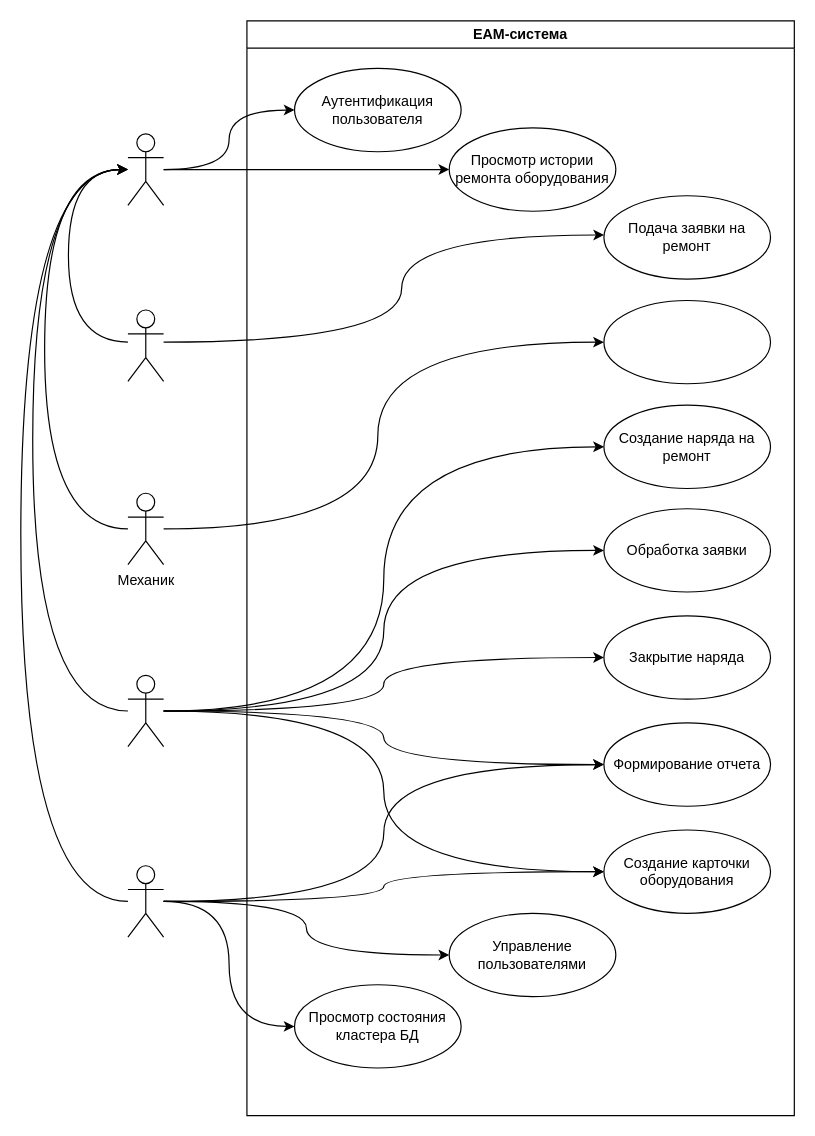
Some shapes in this 815 by 1136 pixel diagram are drawn without their labels. Here are the shapes that lost their labels. From the top down, the box of each, then its label:
(127, 133, 164, 205): Пользователь
(127, 309, 164, 381): Заявитель
(603, 299, 771, 384): Выполнение наряда
(127, 674, 164, 747): Мастер
(127, 865, 164, 937): Администратор
